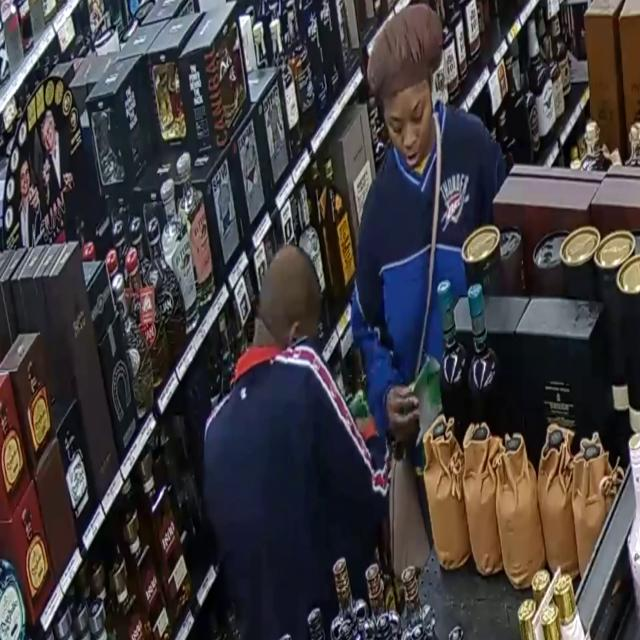Product: (332, 336, 386, 448)
normal: (337, 0, 540, 557)
shoplifting: (160, 220, 422, 640)
